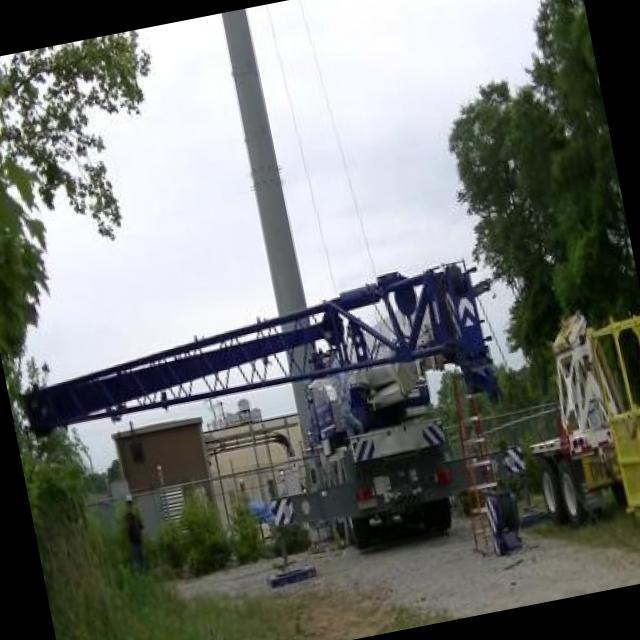Mobile Crane: (9, 257, 520, 611)
